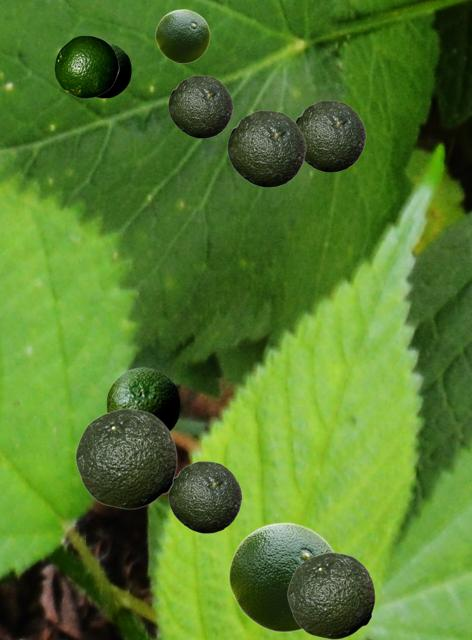calamansi: (228, 522, 334, 631), (75, 408, 176, 508), (287, 552, 374, 638), (227, 110, 305, 186), (168, 461, 241, 532), (295, 100, 365, 171), (106, 367, 179, 430), (168, 75, 232, 137), (54, 35, 118, 97), (155, 9, 209, 62), (97, 42, 130, 97)
